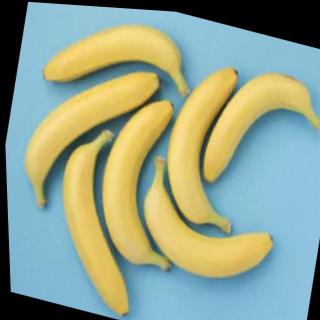banana: (10, 37, 166, 235), (38, 117, 160, 319), (83, 81, 201, 275), (129, 151, 285, 295), (150, 49, 262, 235), (192, 51, 320, 208), (36, 2, 200, 117)
